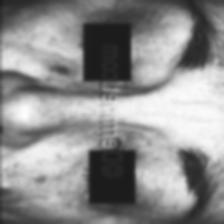Non-Cancerous Skin Condition: (0, 132, 65, 210), (25, 46, 78, 86), (195, 62, 224, 116)
